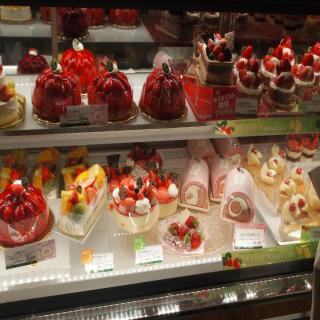Cake: (241, 144, 320, 241), (0, 148, 89, 194), (59, 163, 109, 235), (31, 58, 81, 122), (0, 178, 49, 241), (88, 61, 132, 122), (112, 177, 159, 230), (139, 64, 185, 118), (197, 33, 236, 88), (58, 36, 96, 92), (221, 168, 255, 222), (148, 168, 179, 216), (180, 157, 209, 205), (157, 8, 195, 40), (124, 143, 164, 173), (209, 156, 234, 197), (56, 8, 88, 36), (184, 138, 217, 164), (16, 49, 48, 74), (212, 136, 245, 160), (282, 12, 306, 41), (0, 3, 32, 23), (108, 8, 137, 28), (284, 136, 304, 162), (199, 12, 220, 34), (302, 134, 320, 158), (85, 8, 105, 27), (40, 6, 52, 22)
Strawberry: (0, 183, 48, 243), (31, 68, 81, 116), (88, 68, 134, 114), (37, 7, 105, 38), (140, 69, 185, 113), (60, 46, 98, 88), (287, 132, 320, 152), (102, 164, 126, 191), (109, 8, 139, 22), (191, 227, 205, 248), (178, 225, 192, 244), (66, 188, 80, 204), (86, 186, 99, 203), (0, 84, 12, 102), (80, 177, 96, 190), (280, 55, 292, 72), (284, 73, 295, 91), (186, 214, 198, 230), (298, 66, 310, 82), (302, 52, 314, 68), (167, 222, 180, 236), (222, 252, 233, 268), (10, 183, 23, 196), (248, 60, 260, 74), (41, 165, 51, 181), (242, 45, 252, 60), (6, 155, 15, 171), (232, 256, 244, 268), (253, 73, 262, 89), (241, 75, 252, 88), (10, 168, 20, 182), (274, 46, 284, 60), (282, 35, 291, 50), (264, 60, 274, 72), (274, 76, 284, 88), (280, 52, 290, 64), (307, 66, 315, 81), (212, 44, 221, 57), (272, 43, 280, 57), (310, 42, 318, 56), (137, 182, 146, 193), (208, 38, 215, 51), (226, 125, 235, 135), (236, 60, 245, 70), (239, 70, 248, 80), (4, 182, 12, 193), (314, 42, 320, 56), (217, 53, 226, 62), (156, 178, 164, 188), (164, 178, 172, 188), (298, 64, 306, 74), (315, 57, 320, 72), (128, 191, 137, 199), (193, 292, 202, 300), (217, 124, 226, 132), (262, 54, 268, 66), (293, 62, 298, 76), (163, 172, 169, 183), (202, 290, 210, 298), (138, 190, 144, 200), (221, 38, 226, 50), (128, 177, 136, 184), (135, 146, 139, 159), (155, 175, 161, 182), (76, 168, 80, 178), (81, 168, 89, 173), (149, 170, 154, 178), (216, 34, 222, 40), (221, 37, 225, 42)
